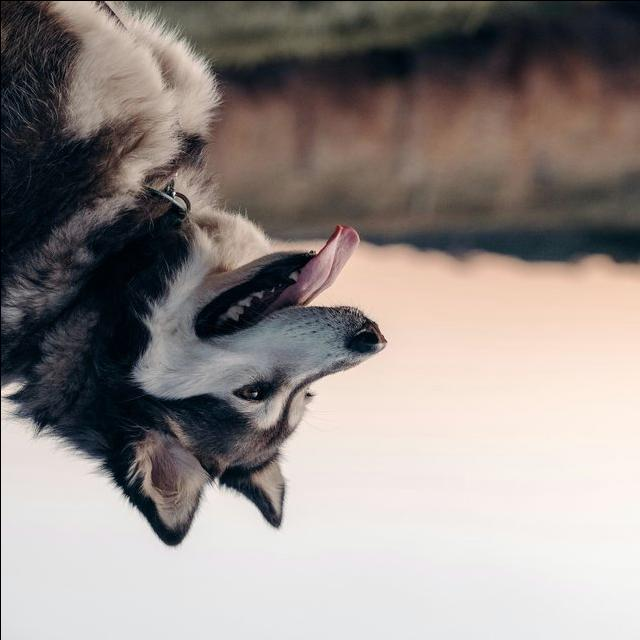husky: (1, 2, 388, 548)
